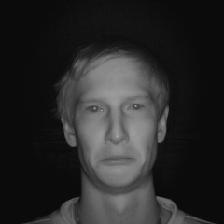sad: (47, 37, 172, 194)
